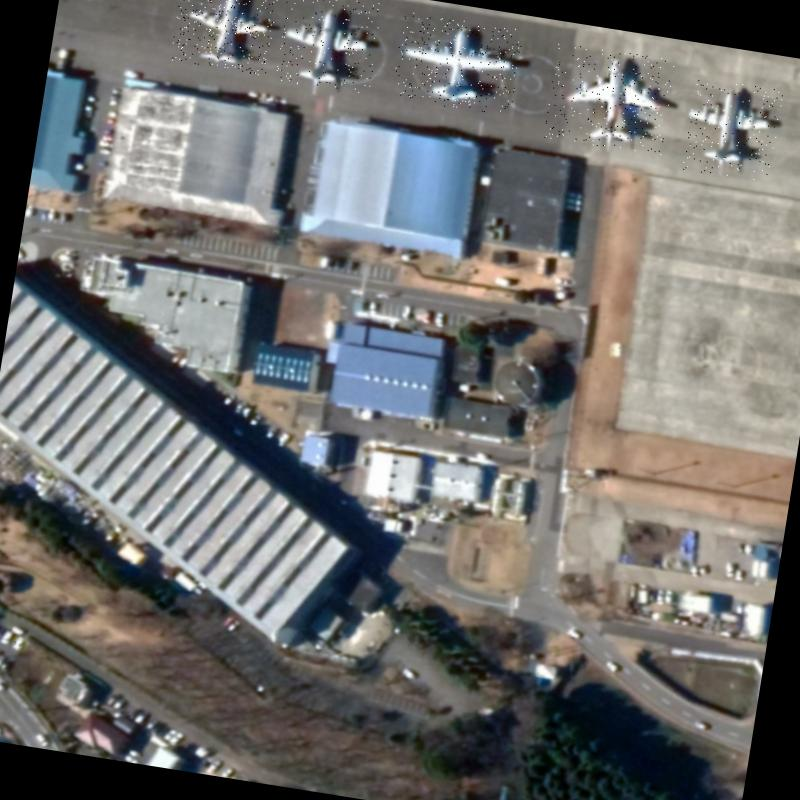A2: (390, 10, 524, 116)
A3: (542, 42, 676, 156)
A9: (682, 76, 784, 183), (273, 0, 383, 95), (169, 0, 280, 76)
